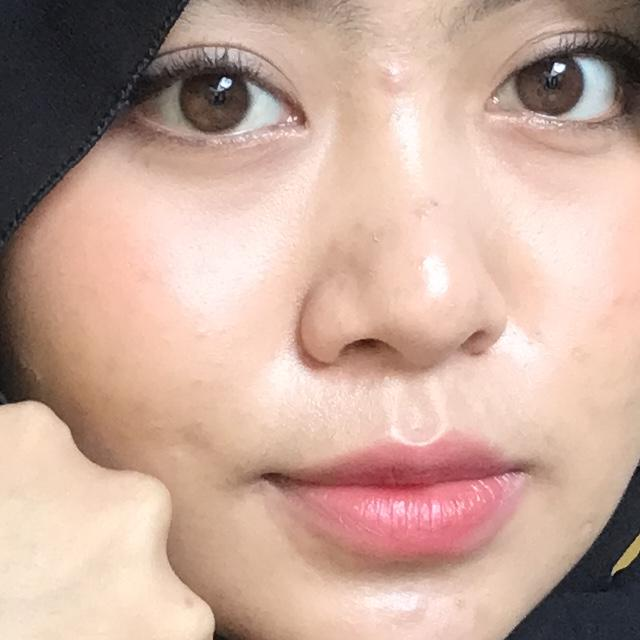telpon: (0, 106, 570, 640)
